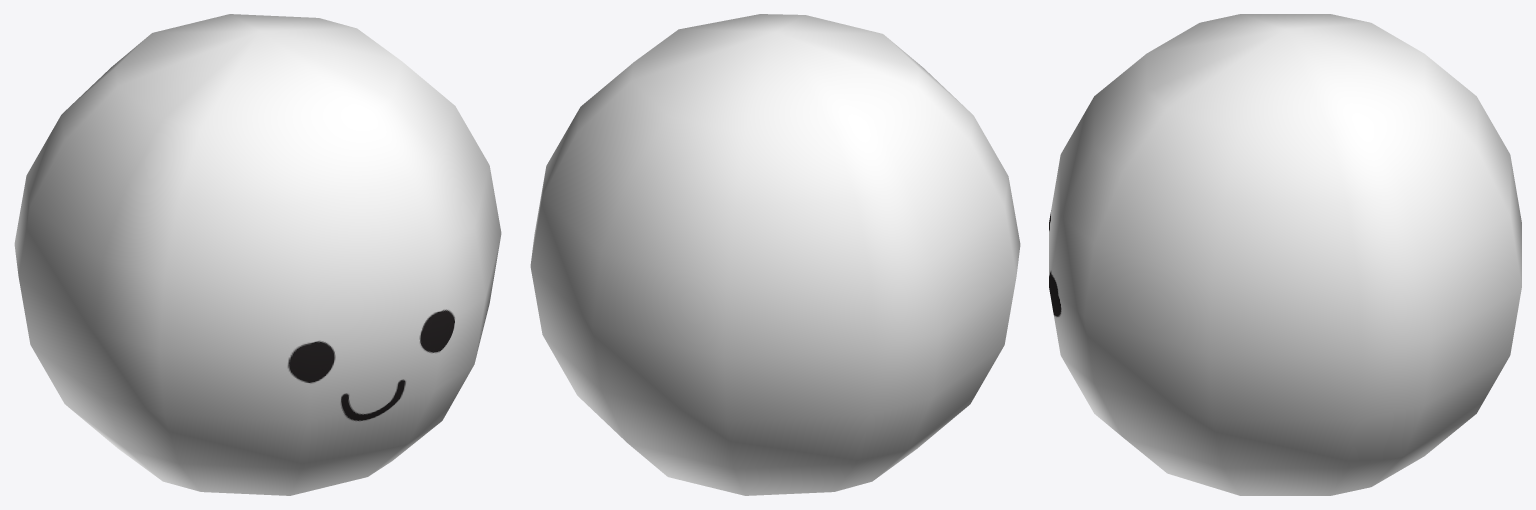
Rendered from SnowBallSmileLow.fbx.
The picture shows the model from 3 angles, left to right: view 1: azimuth 30°, elevation 25°; view 2: azimuth 150°, elevation 25°; view 3: azimuth 270°, elevation 25°; orthographic projection.
Parts seen in each view (by area): view 1: pSphere1; view 2: pSphere1; view 3: pSphere1.
Part boxes in pixels (x1=…): pSphere1: x1=14, y1=14, x2=501, y2=495; pSphere1: x1=530, y1=14, x2=1020, y2=495; pSphere1: x1=1049, y1=14, x2=1521, y2=495.
Bounding box in the file's own units: 5.35 × 5.62 × 5.35.
